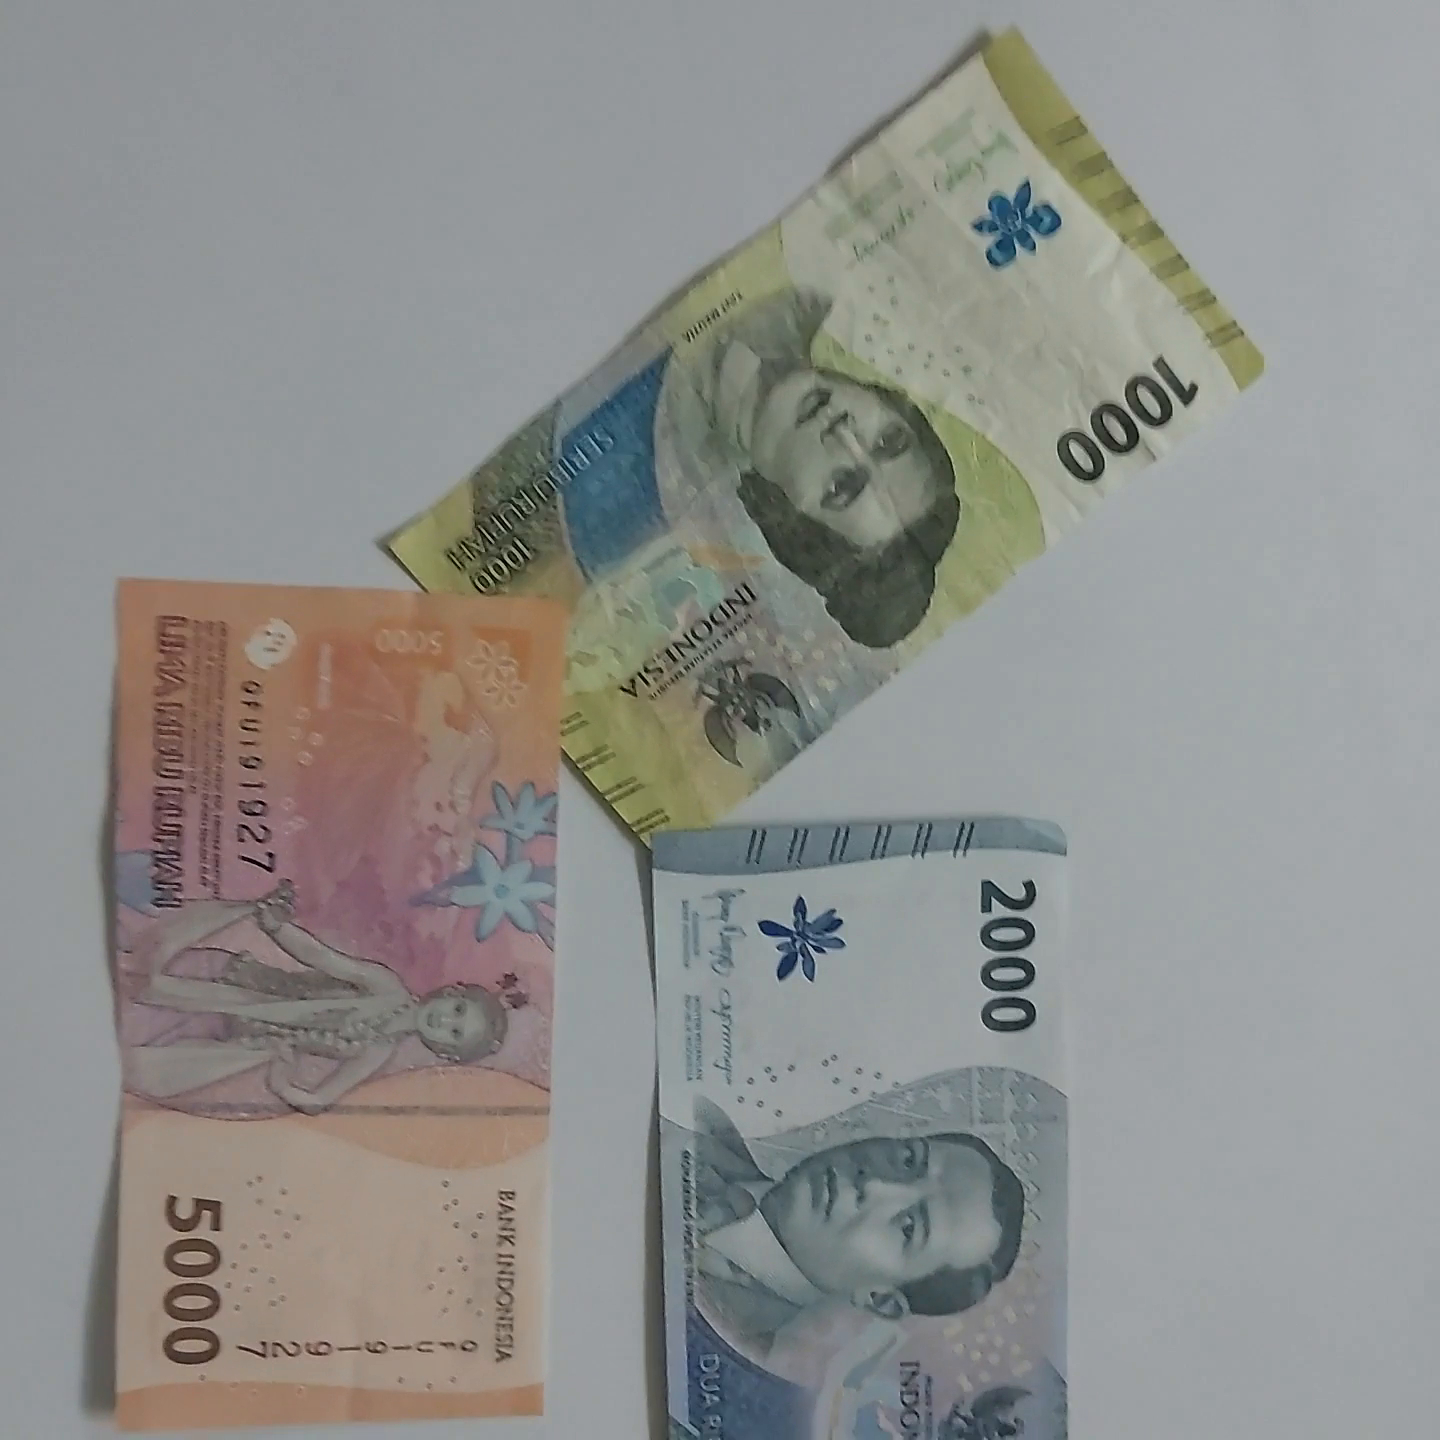1k: (338, 40, 1328, 882)
2k: (626, 810, 1080, 1440)
5k: (98, 504, 553, 1440)
